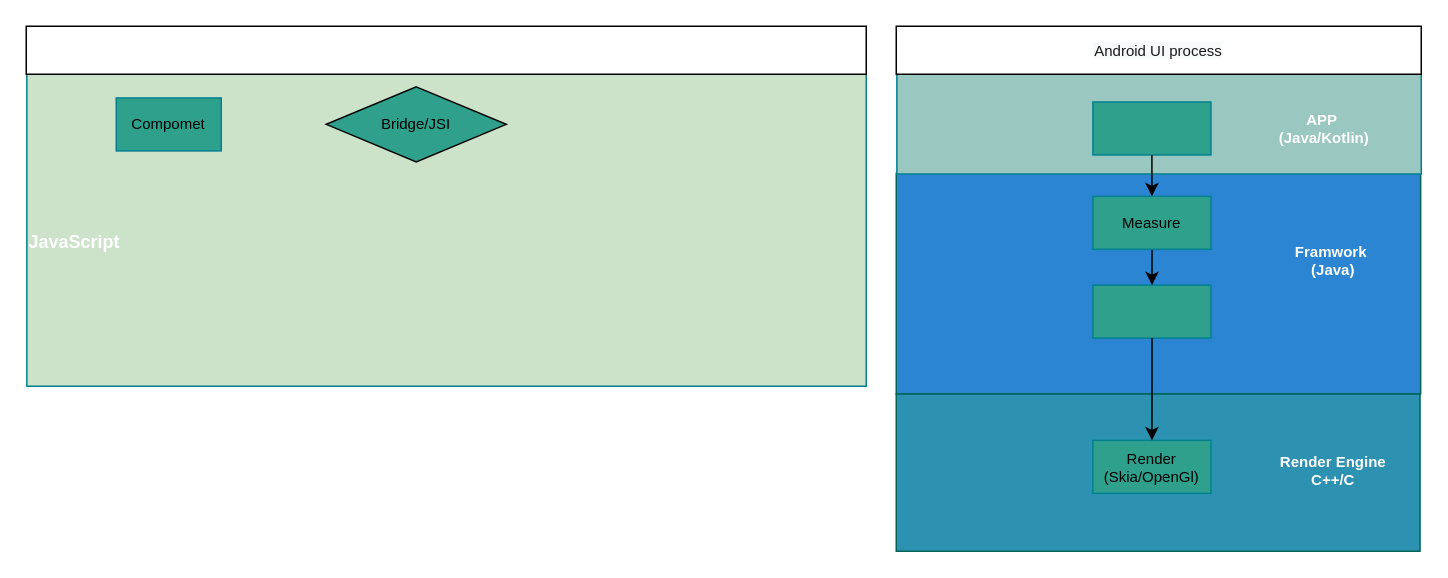
Some shapes in this 1448 by 578 pixel diagram are drawn without their labels. The shapes that lost their labels are listed below. From the top down, each one's centre as x and y in pixels, then its label:
(445,49): React Native UI process
(1151,127): View
(1151,311): Layout
